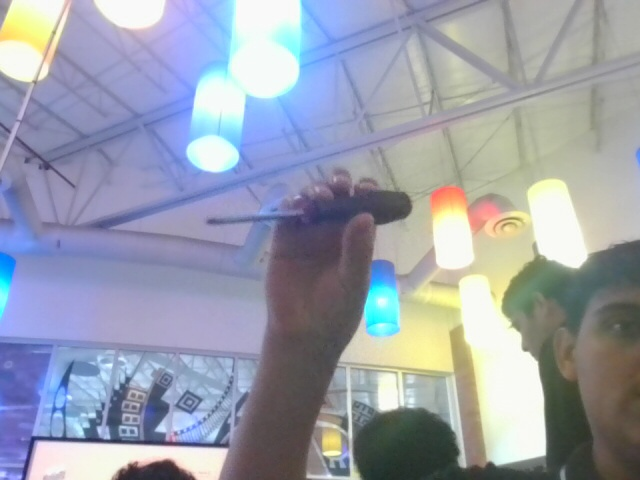destornillador: (207, 191, 413, 228)
